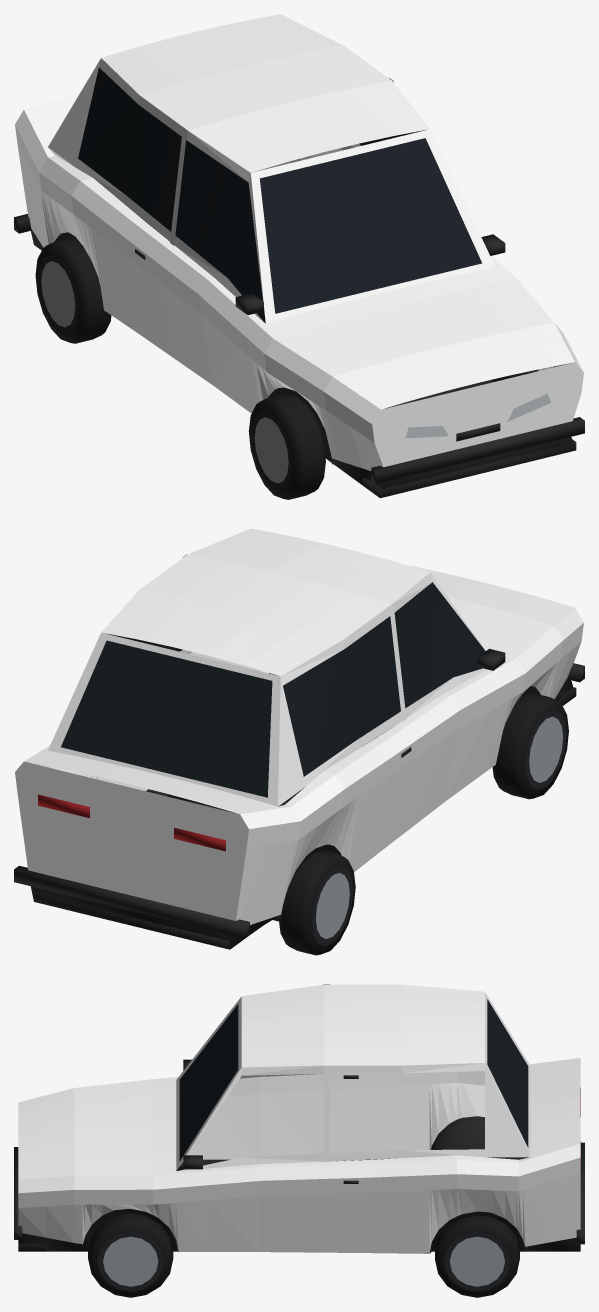
The model's file is hayase_ninho.glb.
3 renders of one model, top to bottom at view 1: azimuth 30°, elevation 25°; view 2: azimuth 150°, elevation 25°; view 3: azimuth 270°, elevation 25°, orthographic. The views are drawn at different scales.
Parts seen in each view (by area): view 1: Body_Paint, Body_Details, Mount_FrontLeft_Wheel_Details, Mount_RearLeft_Wheel_Details; view 2: Body_Paint, Body_Details, Mount_FrontLeft_Wheel_Details, Mount_RearLeft_Wheel_Details; view 3: Body_Paint, Body_Details, Mount_FrontRight_Wheel_Details, Mount_RearRight_Wheel_Details.
Boxes of the visible parts, x1,y1,x2,y2 form: Body_Paint: (15, 14, 583, 470); Body_Details: (14, 67, 584, 498); Mount_FrontLeft_Wheel_Details: (248, 393, 325, 499); Mount_RearLeft_Wheel_Details: (35, 238, 111, 343); Body_Paint: (15, 528, 583, 924); Body_Details: (14, 582, 584, 949); Mount_FrontLeft_Wheel_Details: (492, 692, 568, 799); Mount_RearLeft_Wheel_Details: (279, 850, 355, 955); Body_Paint: (18, 984, 580, 1253); Body_Details: (14, 999, 584, 1253); Mount_FrontRight_Wheel_Details: (88, 1213, 173, 1297); Mount_RearRight_Wheel_Details: (435, 1215, 519, 1297).
Bounding box in the file's own units: 1.69 × 1.62 × 3.76.
Materials: 2 (1 with a texture image).
